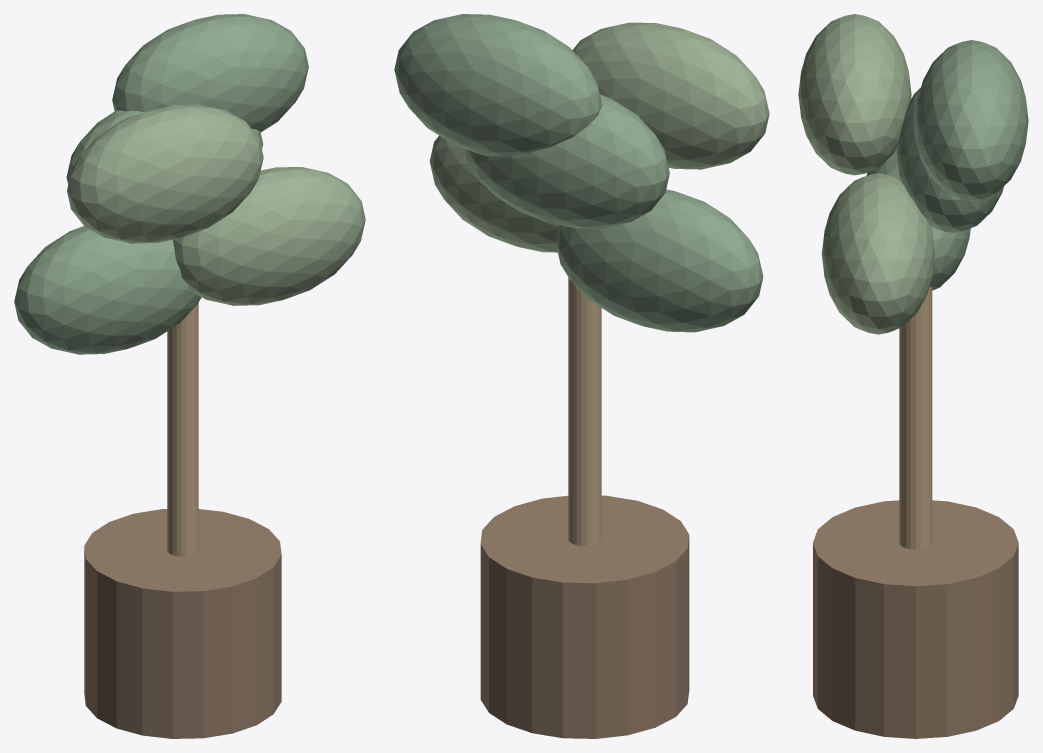
The model's file is plant-large.glb.
3 renders of one model, left to right at view 1: azimuth 30°, elevation 25°; view 2: azimuth 150°, elevation 25°; view 3: azimuth 270°, elevation 25°, orthographic. The views are drawn at different scales.
Visible parts, largest first — view 1: pot, leaf3, leaf1, leaf0, leaf4, trunk, leaf2; view 2: pot, leaf4, leaf0, leaf3, leaf2, trunk, leaf1; view 3: pot, leaf4, leaf3, leaf1, trunk, leaf2, leaf0.
Part boxes in pixels (<box>): pot: <box>84,509,281,738</box>; leaf3: <box>67,104,263,243</box>; leaf1: <box>173,167,365,305</box>; leaf0: <box>14,226,201,354</box>; leaf4: <box>112,14,308,132</box>; trunk: <box>167,303,198,556</box>; leaf2: <box>66,110,263,184</box>; pot: <box>480,495,689,738</box>; leaf4: <box>394,14,602,156</box>; leaf0: <box>555,189,763,332</box>; leaf3: <box>572,22,769,169</box>; leaf2: <box>464,94,669,228</box>; trunk: <box>568,277,601,546</box>; leaf1: <box>429,135,558,252</box>; pot: <box>813,500,1018,738</box>; leaf4: <box>915,40,1028,201</box>; leaf3: <box>798,14,911,175</box>; leaf1: <box>821,173,934,334</box>; trunk: <box>899,287,932,549</box>; leaf2: <box>896,87,1003,232</box>; leaf0: <box>866,148,970,290</box>.
Size of the model in its own units: 0.834 by 1.57 by 0.492.
